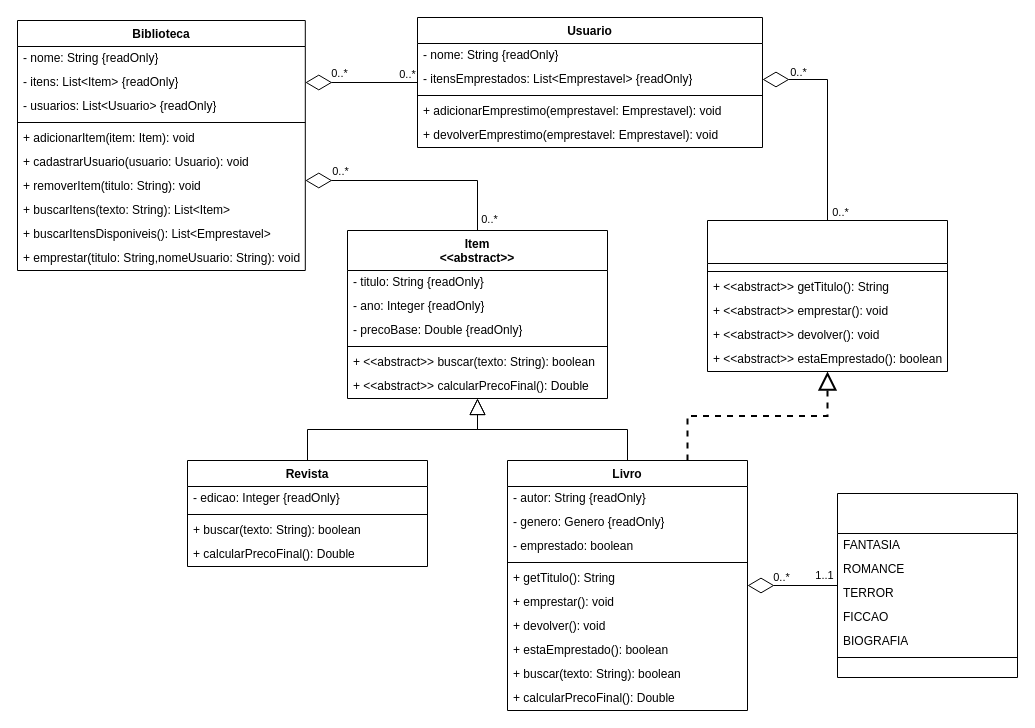
This 1035x728 diagram has some shape labels left out. Each missing label, with the box of its shape:
Emprestavel <<interface>>: (706, 220, 948, 372)
Genero <<enumerated>>: (836, 492, 1018, 678)
